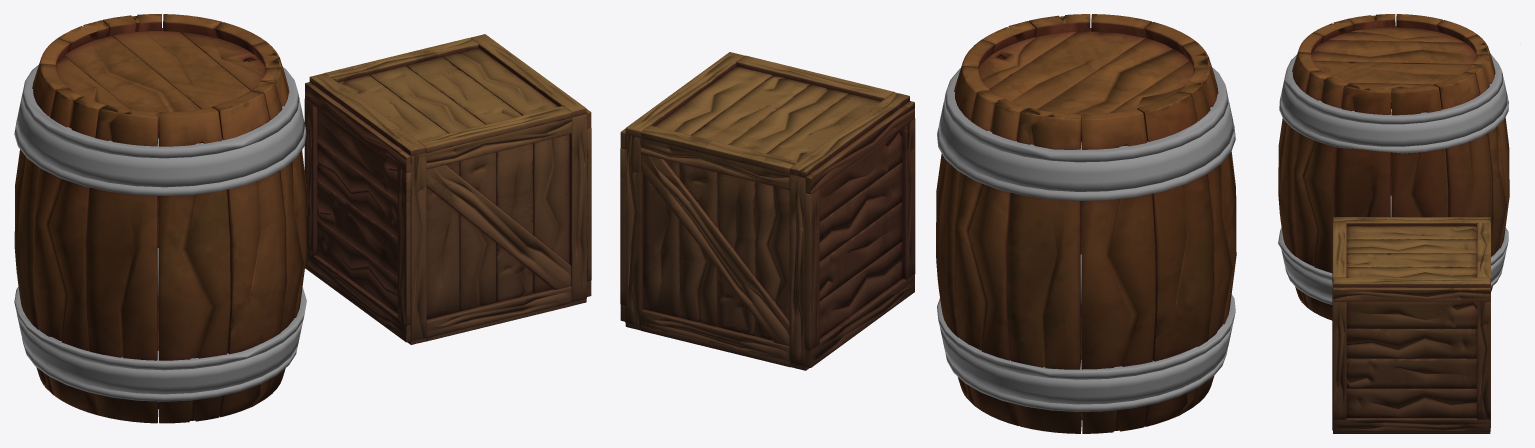
The model's file is BarrelAndBox.fbx.
3 views of the same model, side by side, from view 1: azimuth 30°, elevation 25°; view 2: azimuth 150°, elevation 25°; view 3: azimuth 270°, elevation 25° (orthographic). The views are drawn at different scales.
Visible parts, largest first — view 1: attache_tonneau_msh, barrel_plank_.015, barrel_plank_.016, attache_tonneau.001_msh, barrel_plank_.014, barrel_plank_.017, planche_box.104_msh, barrel_plank_.002, barrel_plank_, barrel_plank_.013, barrel_plank_.018, planche_box.099_msh (+33 smaller); view 2: attache_tonneau_msh, barrel_plank_.019, barrel_plank_.008, barrel_plank_.018, attache_tonneau.001_msh, barrel_plank_.009, planche_box.122_msh, barrel_plank_.002, barrel_plank_.017, barrel_plank_, planche_box.114_msh, planche_box.115_msh (+33 smaller); view 3: attache_tonneau_msh, barrel_plank_.013, barrel_plank_.012, barrel_plank_.011, barrel_plank_.010, planche_box.124_msh, planche_box.123_msh, planche_box.125_msh, planche_box.113_msh, barrel_plank_, barrel_plank_.002, barrel_plank_.009 (+23 smaller).
Part boxes in pixels (<box>): attache_tonneau_msh: <box>14,61,306,195</box>; barrel_plank_.015: <box>158,107,230,423</box>; barrel_plank_.016: <box>86,105,158,423</box>; attache_tonneau.001_msh: <box>14,248,306,401</box>; barrel_plank_.014: <box>212,91,285,417</box>; barrel_plank_.017: <box>34,88,106,415</box>; planche_box.104_msh: <box>426,164,571,289</box>; barrel_plank_.002: <box>112,28,250,108</box>; barrel_plank_: <box>64,36,200,131</box>; barrel_plank_.013: <box>251,67,306,398</box>; barrel_plank_.018: <box>14,64,68,395</box>; planche_box.099_msh: <box>533,134,569,293</box>; attache_tonneau_msh: <box>937,67,1235,200</box>; barrel_plank_.019: <box>1081,108,1155,433</box>; barrel_plank_.008: <box>1007,108,1081,433</box>; barrel_plank_.018: <box>1137,92,1213,426</box>; attache_tonneau.001_msh: <box>937,254,1235,411</box>; barrel_plank_.009: <box>954,91,1027,425</box>; planche_box.122_msh: <box>641,154,789,346</box>; barrel_plank_.002: <box>990,28,1146,109</box>; barrel_plank_.017: <box>1178,67,1236,407</box>; barrel_plank_: <box>1038,38,1189,136</box>; planche_box.114_msh: <box>643,160,679,317</box>; planche_box.115_msh: <box>680,163,718,326</box>; attache_tonneau_msh: <box>1279,54,1508,153</box>; barrel_plank_.013: <box>1292,70,1349,320</box>; barrel_plank_.012: <box>1334,83,1391,216</box>; barrel_plank_.011: <box>1391,84,1448,217</box>; barrel_plank_.010: <box>1434,72,1492,235</box>; planche_box.124_msh: <box>1346,358,1476,388</box>; planche_box.123_msh: <box>1346,328,1476,358</box>; planche_box.125_msh: <box>1346,388,1476,417</box>; planche_box.113_msh: <box>1346,301,1476,328</box>; barrel_plank_: <box>1311,40,1476,64</box>; barrel_plank_.002: <box>1313,61,1472,84</box>; barrel_plank_.009: <box>1465,54,1509,291</box>.
Size of the model in its own units: 139 by 78.26 by 76.28.
Materials: 3 (2 with a texture image).
